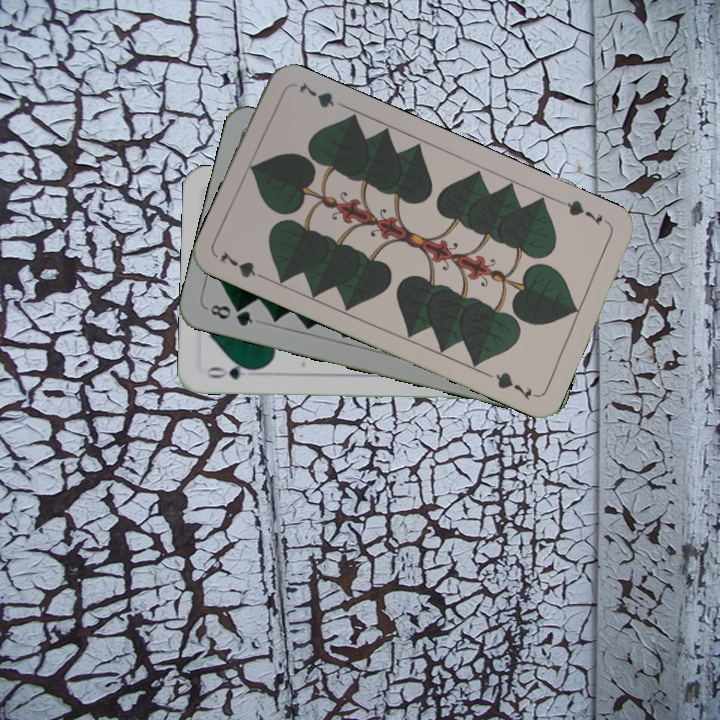G7: (215, 246, 271, 283), (556, 196, 605, 228)
G8: (203, 300, 256, 329)
GO: (202, 359, 261, 382)
